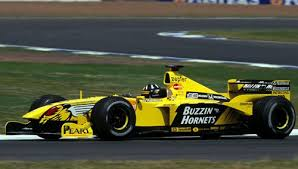FormulaOneCar: (5, 61, 295, 146)
